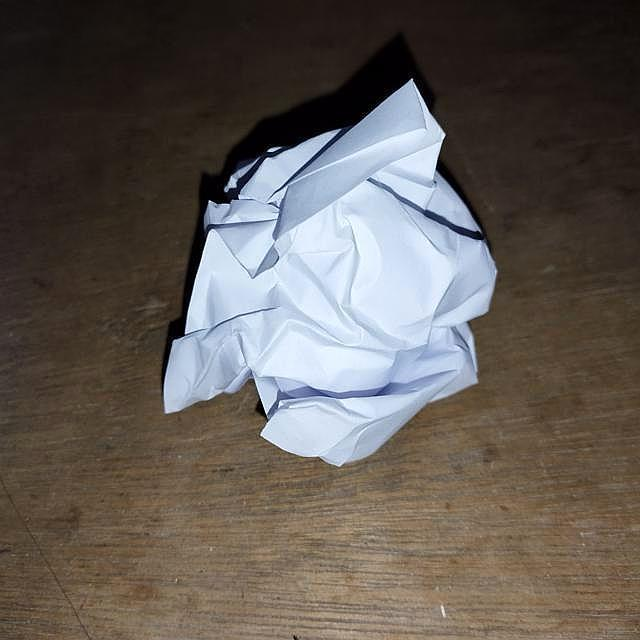Biodegradable: (165, 75, 497, 469)
